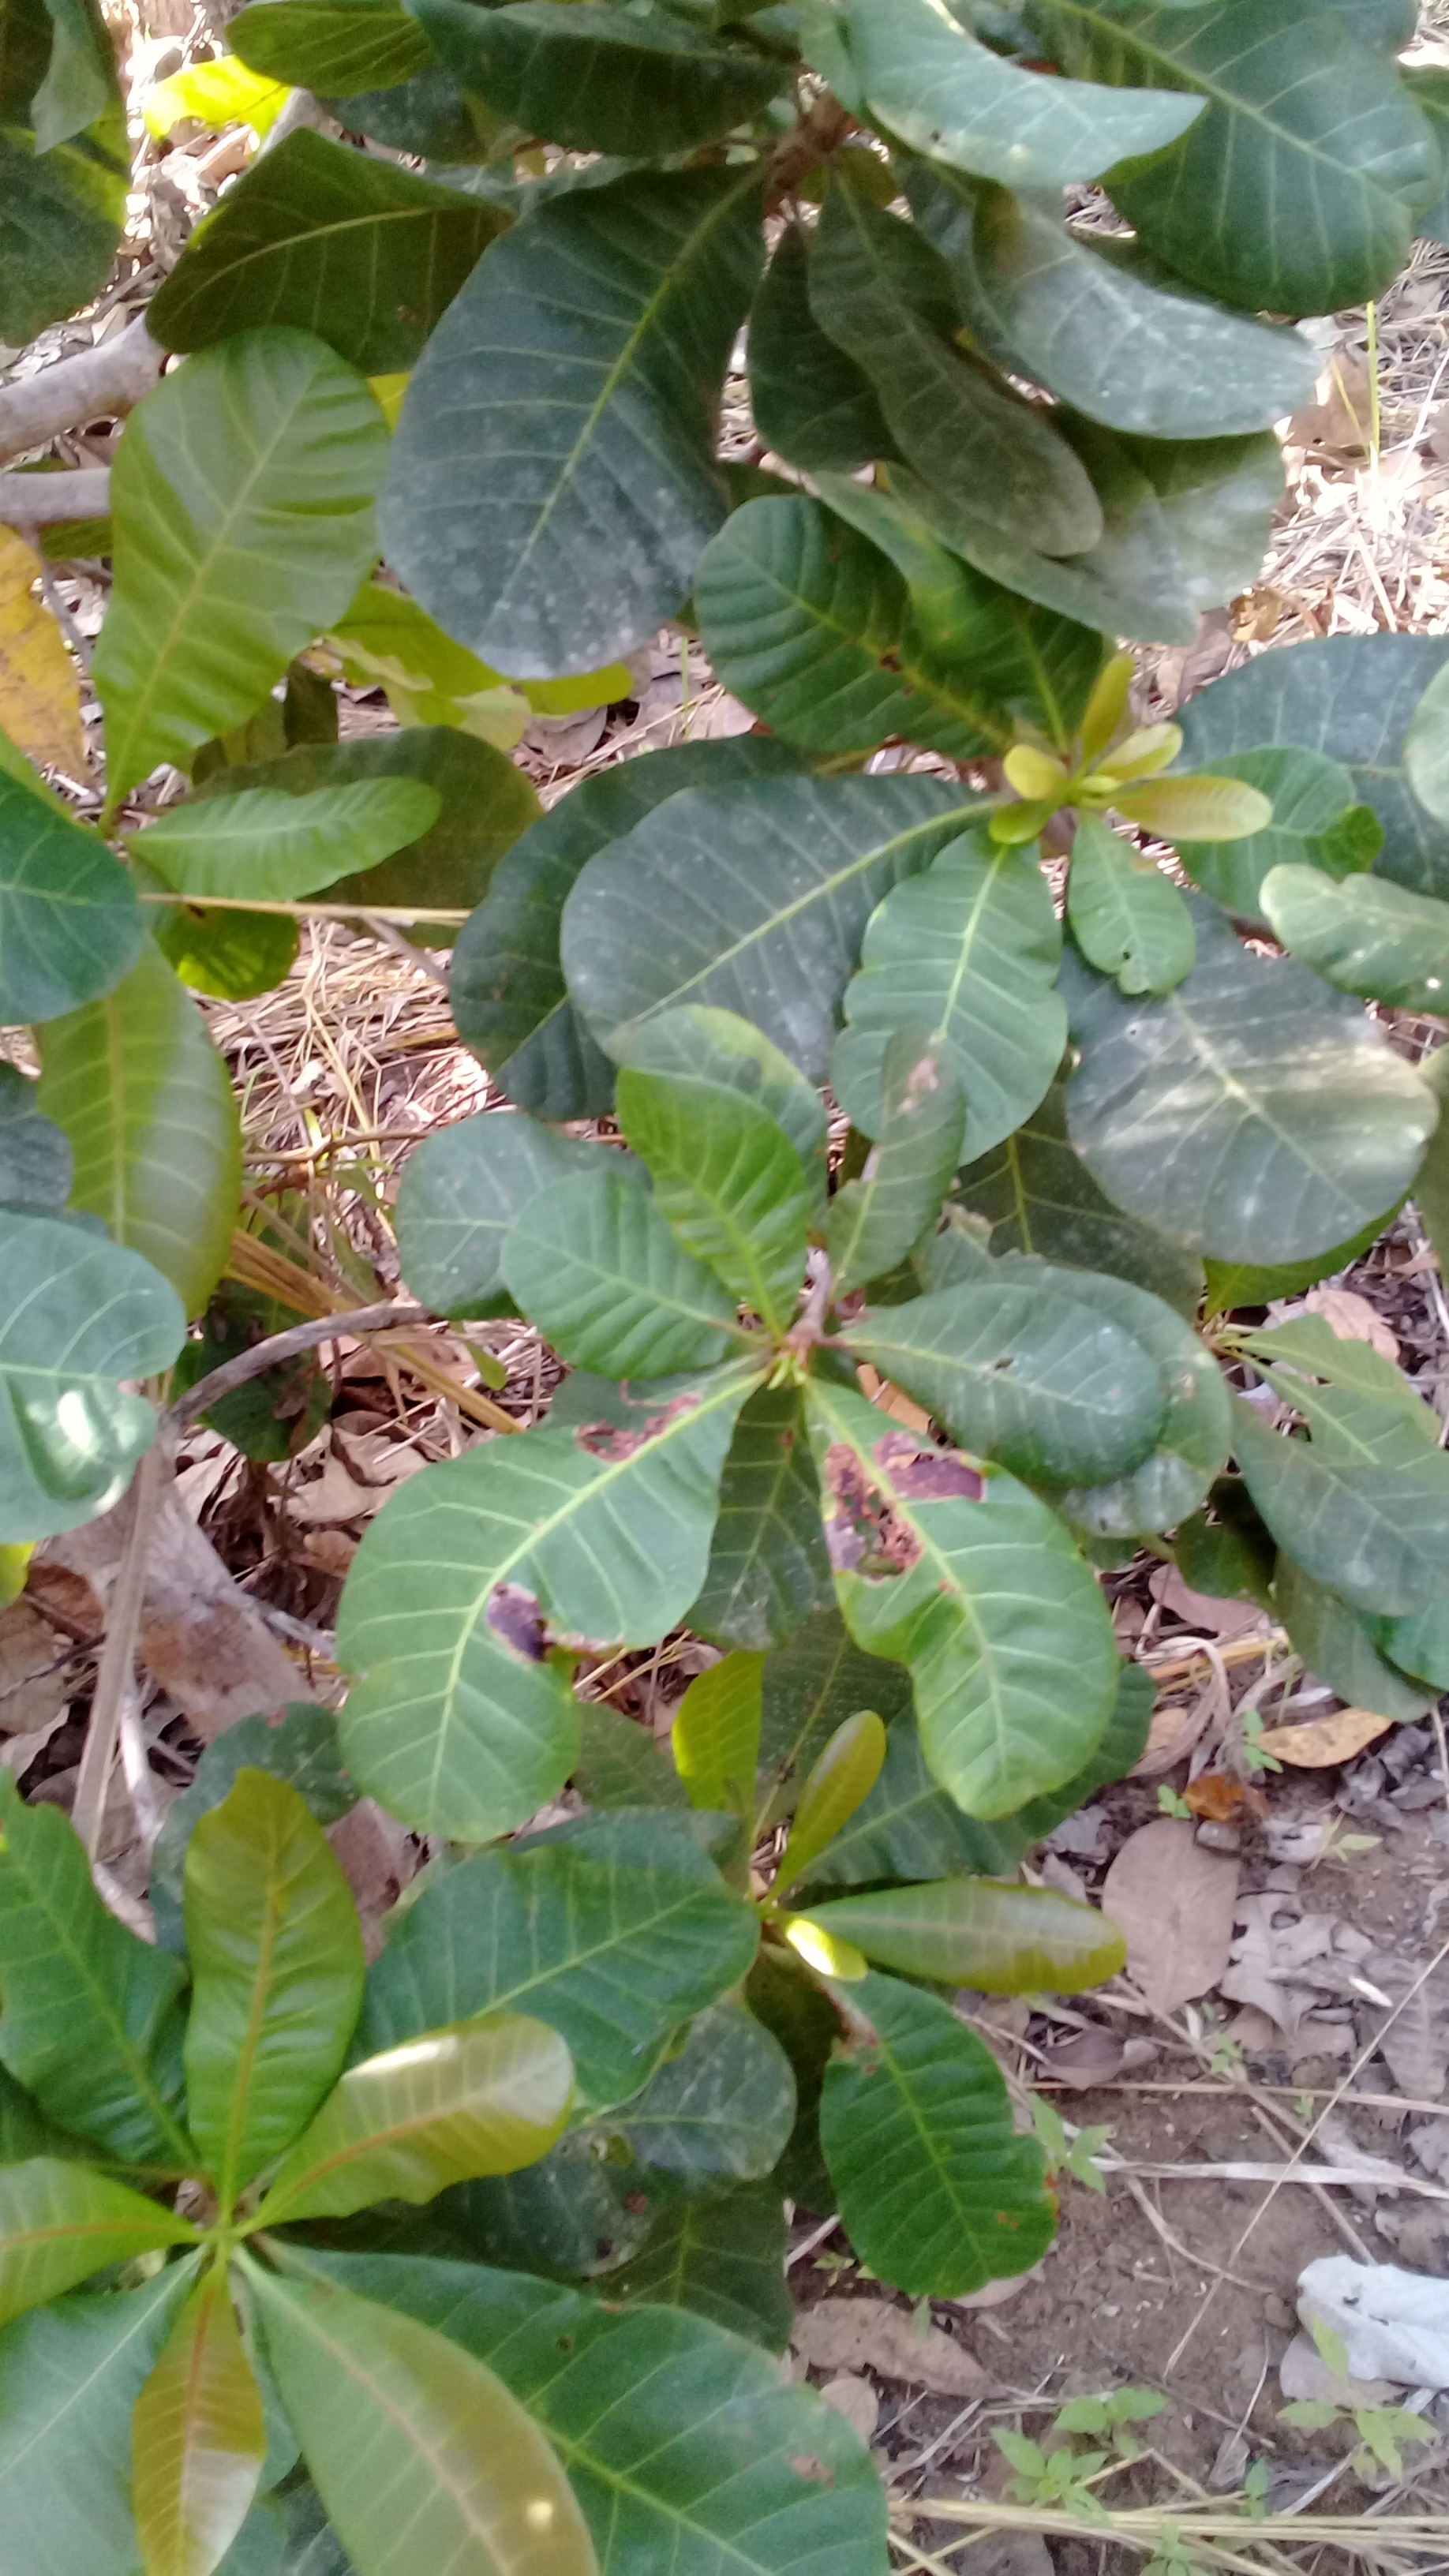Dysdercus wolkerii: (283, 1332, 775, 1872), (784, 1355, 1159, 1852)
